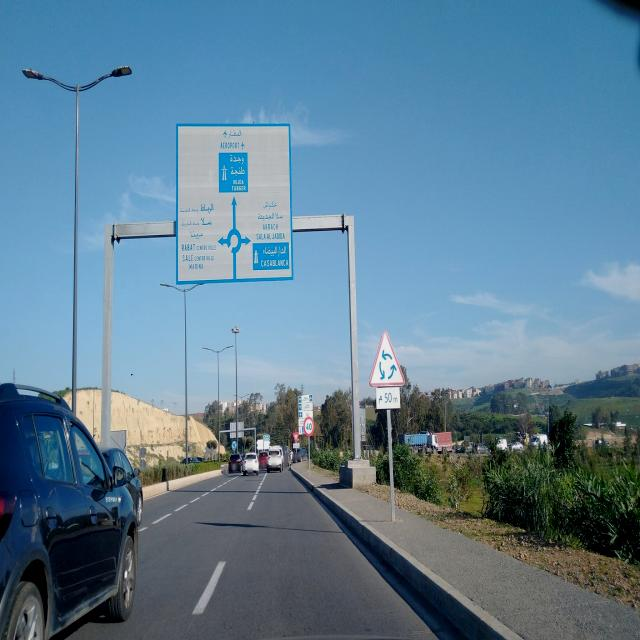car: (0, 380, 140, 640), (98, 445, 144, 527), (242, 452, 260, 475), (266, 448, 282, 472), (228, 453, 244, 473)
